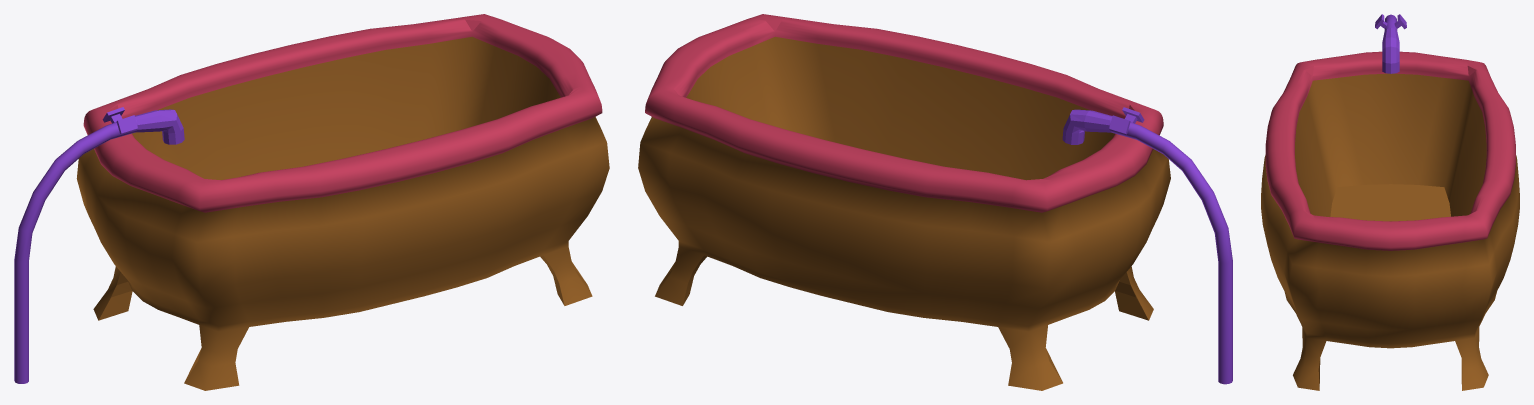
File: Bathtub.FBX
3 renders of one model, left to right at view 1: azimuth 30°, elevation 25°; view 2: azimuth 150°, elevation 25°; view 3: azimuth 270°, elevation 25°, orthographic. The views are drawn at different scales.
Parts seen in each view (by area): view 1: Bathtub; view 2: Bathtub; view 3: Bathtub.
Boxes of the visible parts, left/top/right/bottom form: Bathtub: left=14, top=14, right=609, bottom=390; Bathtub: left=638, top=14, right=1232, bottom=390; Bathtub: left=1261, top=14, right=1519, bottom=390.
Size of the model in its own units: 4.36 by 1.81 by 2.09.
